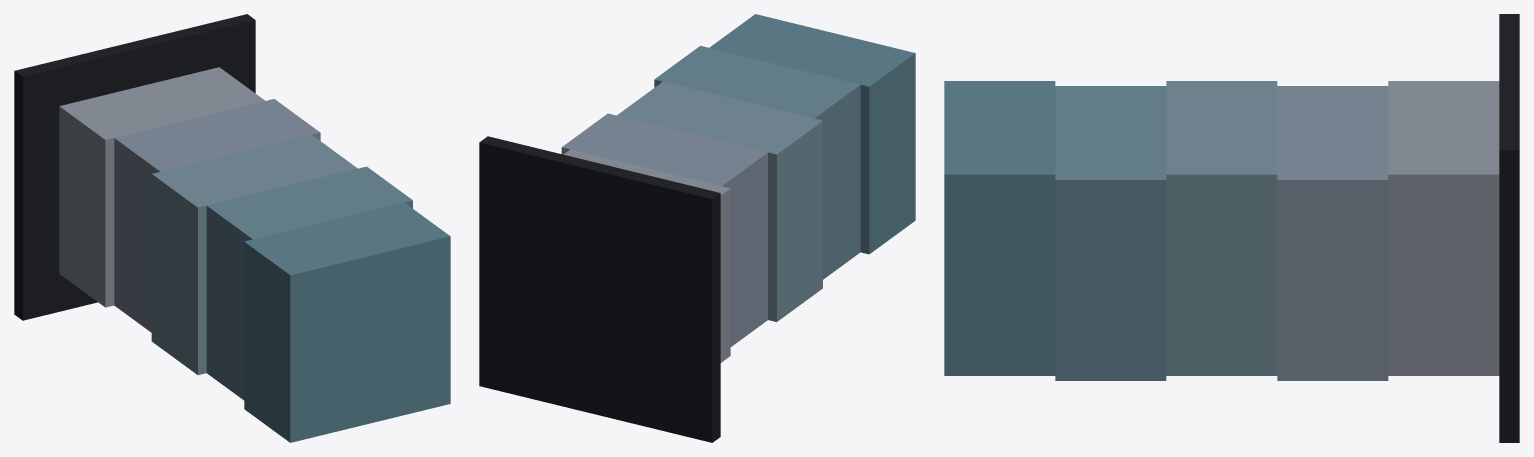
3 views of the same model, side by side, from view 1: azimuth 30°, elevation 25°; view 2: azimuth 150°, elevation 25°; view 3: azimuth 270°, elevation 25° (orthographic). The views are drawn at different scales.
Visible parts, largest first — view 1: rigid_stack; view 2: rigid_stack; view 3: rigid_stack.
Boxes of the visible parts, x1,y1,x2,y2 form: rigid_stack: (14, 14, 450, 442); rigid_stack: (479, 14, 915, 442); rigid_stack: (944, 14, 1519, 442).
Bounding box in the file's own units: 3.2 × 3.2 × 5.7.
